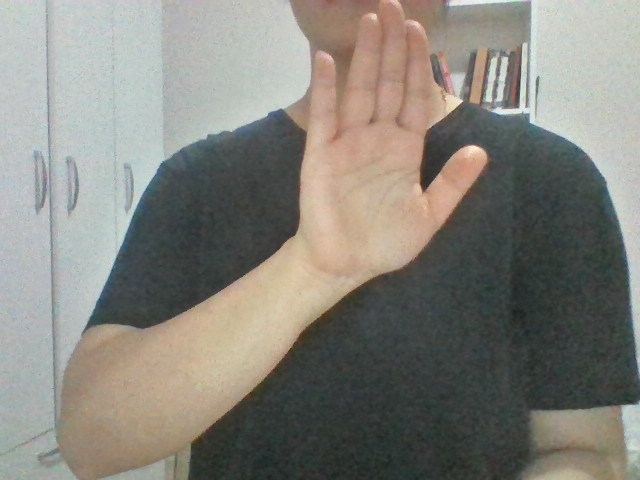Hello: (238, 1, 538, 331)
